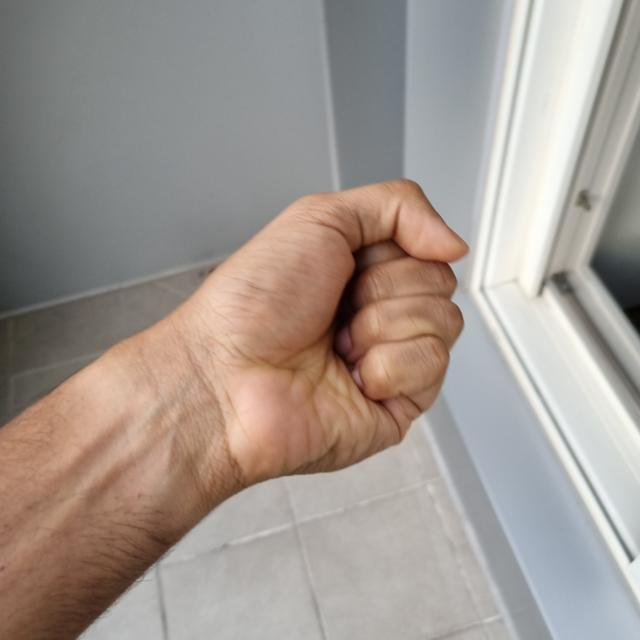Rock: (121, 178, 472, 477)
